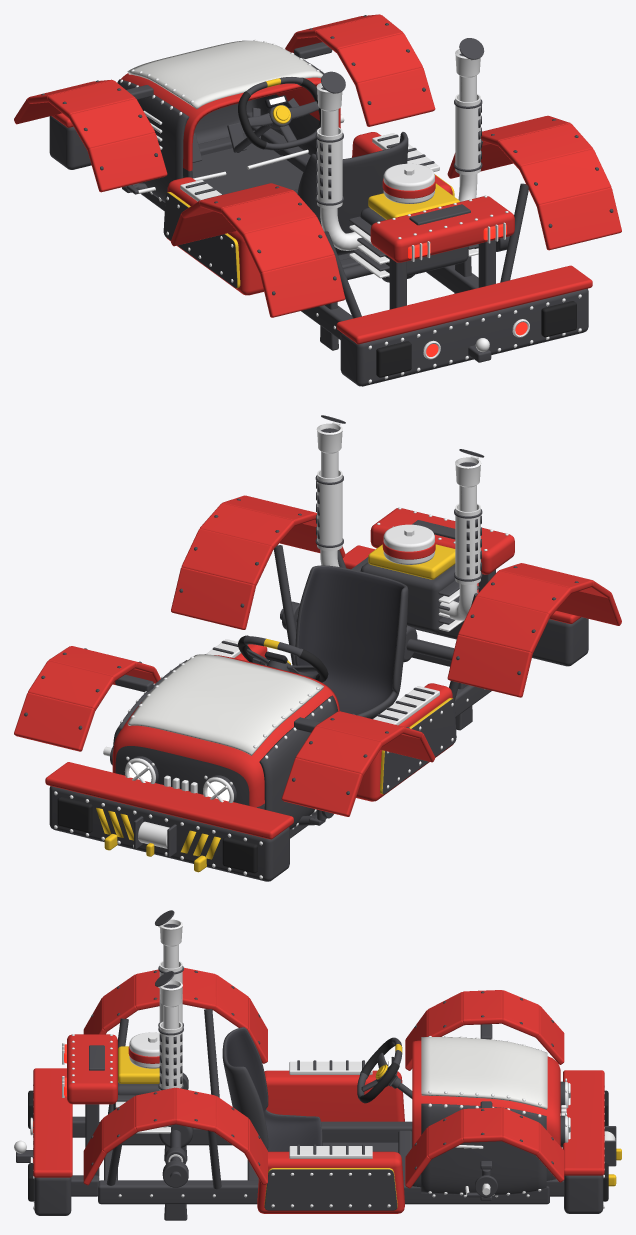
The model's file is body_titan.glb.
3 renders of one model, top to bottom at view 1: azimuth 30°, elevation 25°; view 2: azimuth 150°, elevation 25°; view 3: azimuth 270°, elevation 25°, orthographic. The views are drawn at different scales.
Visible parts, largest first — view 1: body_titan, steering_wheel; view 2: body_titan, steering_wheel; view 3: body_titan, steering_wheel.
Part boxes in pixels (left/top/right/bottom): body_titan: left=14, top=14, right=621, bottom=386; steering_wheel: left=238, top=77, right=320, bottom=150; body_titan: left=14, top=415, right=621, bottom=881; steering_wheel: left=238, top=635, right=328, bottom=682; body_titan: left=14, top=910, right=621, bottom=1220; steering_wheel: left=357, top=1037, right=402, bottom=1103.
Bounding box in the file's own units: 1.57 × 1.18 × 2.62.
